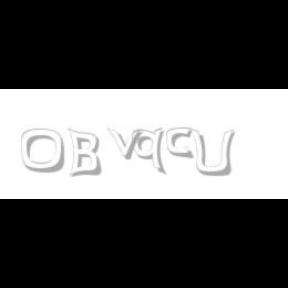B: (67, 128, 101, 178)
O: (20, 128, 66, 174)
U: (190, 128, 234, 178)
c: (166, 128, 196, 160)
q: (132, 128, 168, 176)
v: (106, 128, 146, 160)
